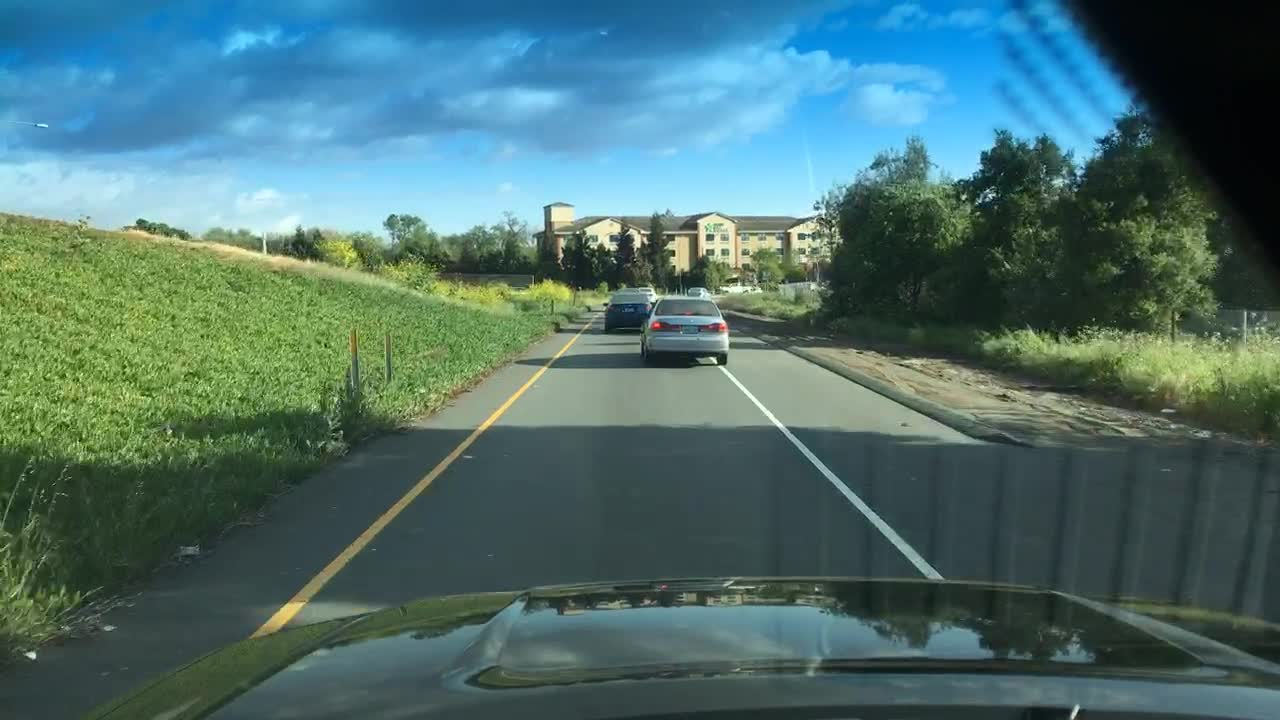car: (638, 294, 731, 365), (601, 286, 656, 336), (637, 285, 661, 306), (685, 286, 714, 299)
